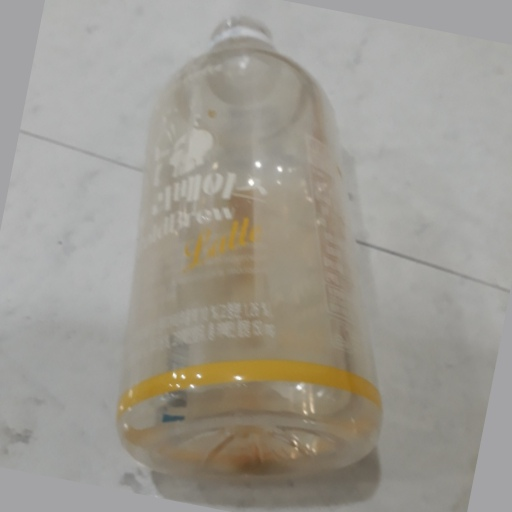Plastic_0: (119, 11, 385, 478)
